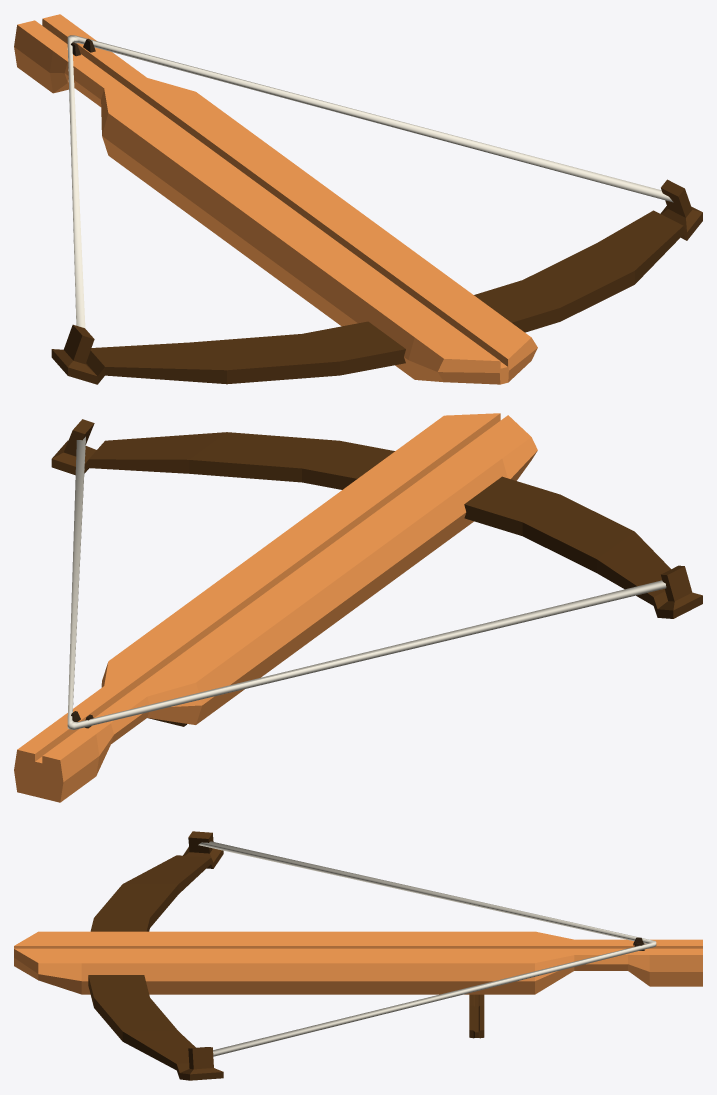
Rendered from XBow_02.fbx.
3 views of the same model, one above another, from view 1: azimuth 30°, elevation 25°; view 2: azimuth 150°, elevation 25°; view 3: azimuth 270°, elevation 25° (orthographic). The views are drawn at different scales.
Parts seen in each view (by area): view 1: XBow_02; view 2: XBow_02; view 3: XBow_02.
Boxes of the visible parts, x1,y1,x2,y2 form: XBow_02: (14, 14, 702, 384); XBow_02: (14, 413, 702, 802); XBow_02: (14, 831, 702, 1080).
Bounding box in the file's own units: 95.78 × 13.06 × 122.
